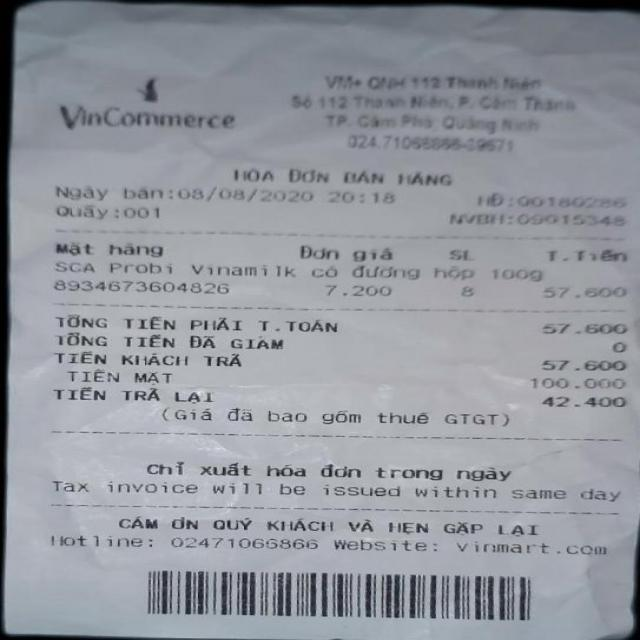Date: (175, 186, 317, 204)
Store_Name: (53, 71, 249, 138)
Total_Amount: (44, 309, 635, 339)
